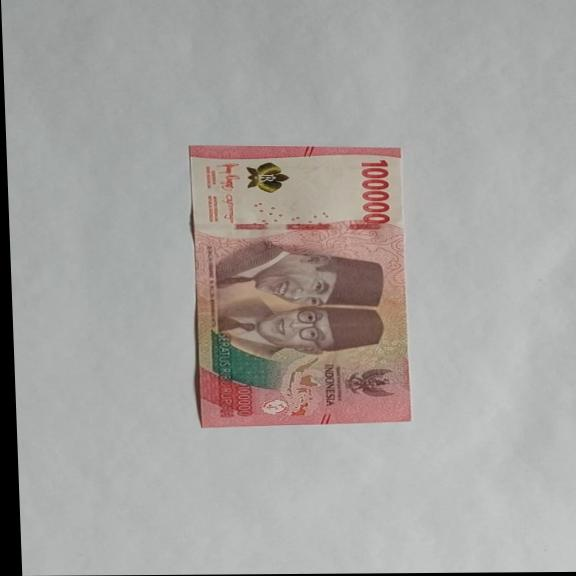Kertas: (185, 144, 414, 428), (358, 159, 394, 225)
